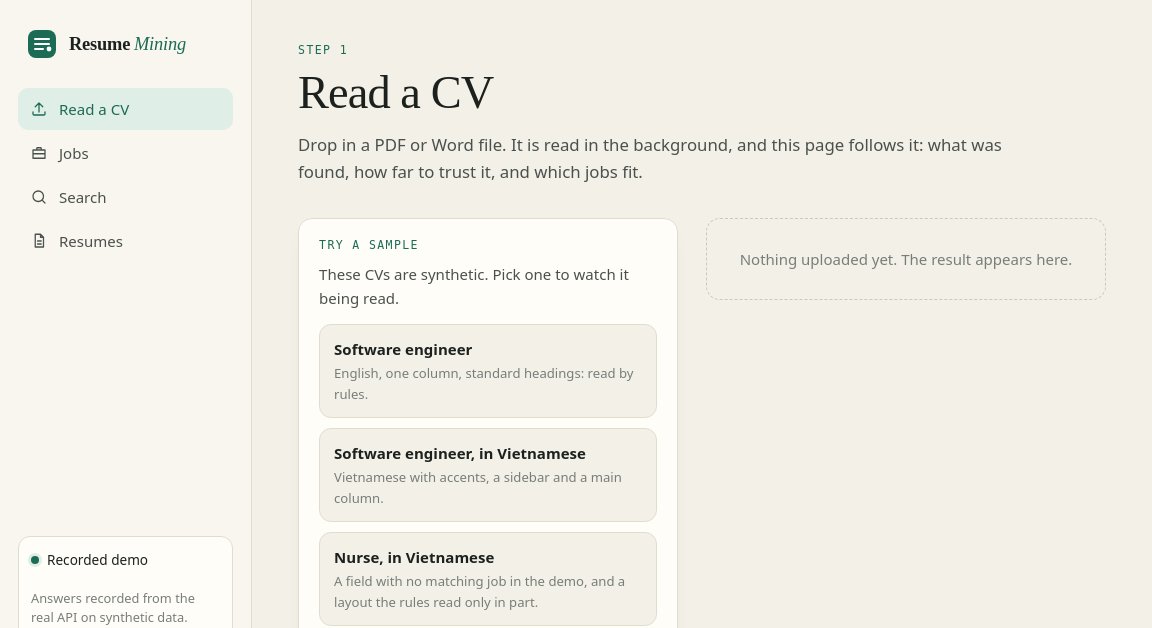
Scenario: the recorded demo, end to end › shows an uploaded sample being read, its confidence and the jobs that fit
The image size is (1152, 628).
Click the button "Software engineer": click(488, 372) [319,324,657,418]
(page scrolled)
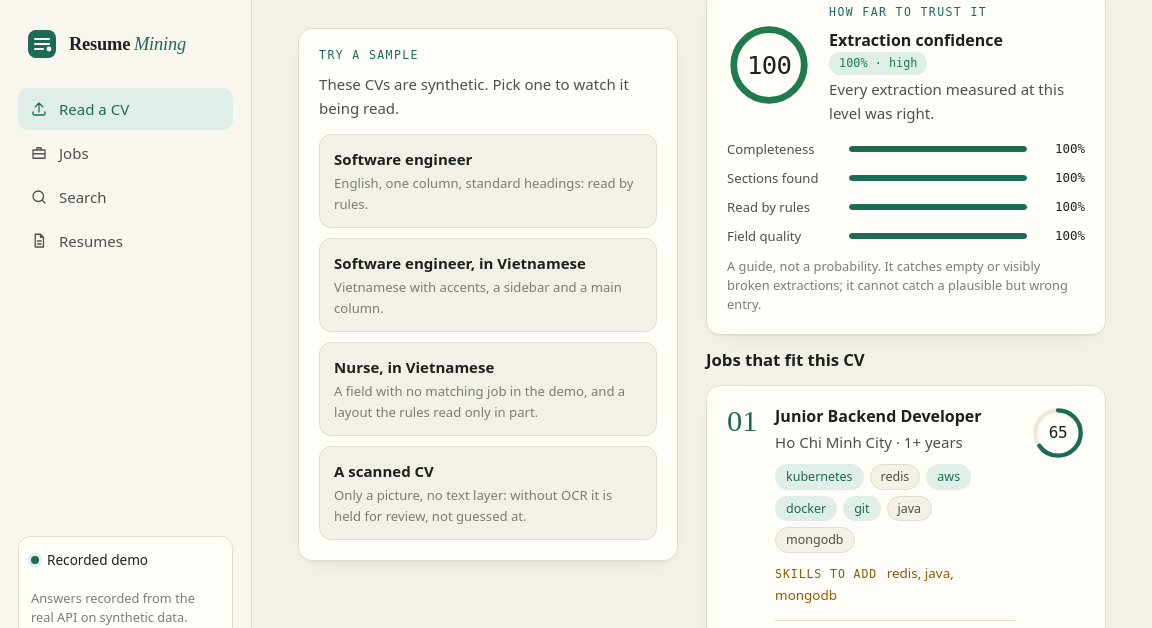
Expected: the heading "Jobs that fit this CV" is shown, [706,348,865,371]
